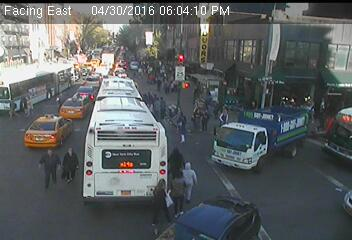neg: (259, 56, 279, 83), (327, 41, 343, 62), (196, 36, 211, 56), (329, 117, 341, 133), (174, 32, 185, 47)
pos: (144, 178, 178, 223), (162, 172, 192, 212), (173, 159, 202, 198), (35, 146, 64, 185), (54, 144, 83, 182), (169, 112, 193, 143), (168, 145, 185, 168), (3, 96, 20, 119), (199, 110, 213, 129), (22, 95, 35, 112), (159, 96, 170, 111), (160, 78, 171, 92), (220, 108, 229, 121), (168, 80, 176, 90)
